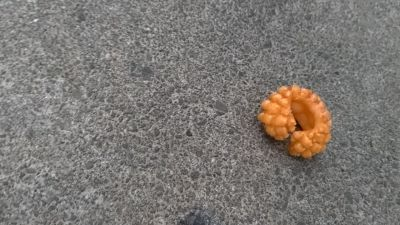eggs: (256, 86, 332, 158)
